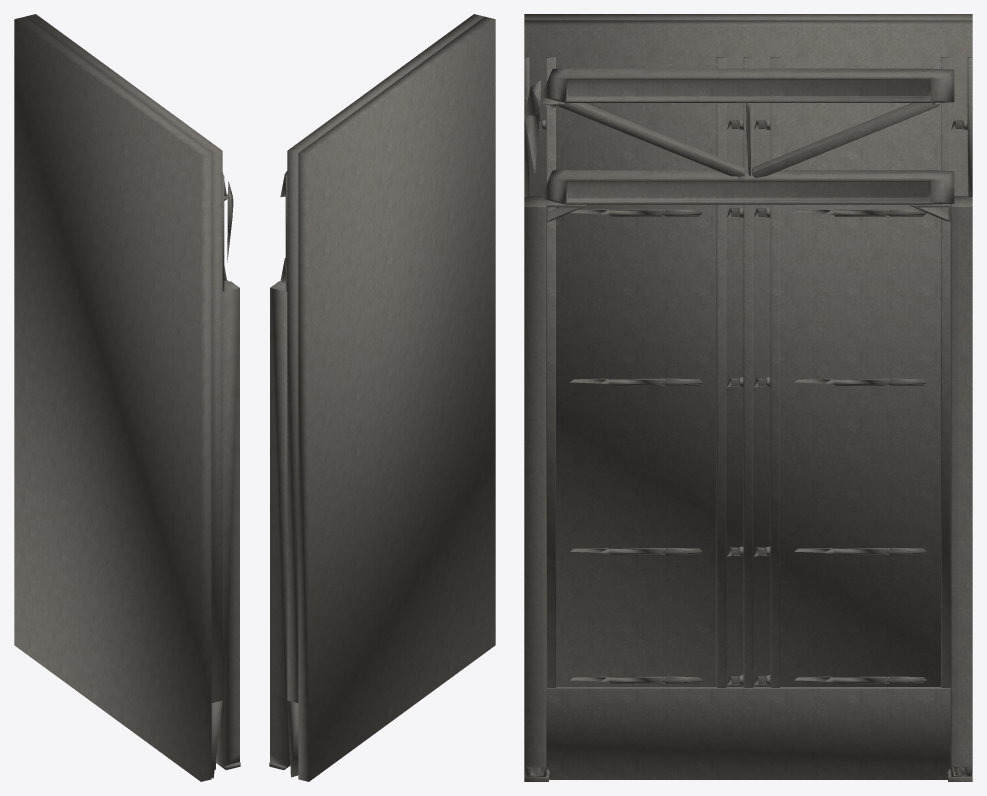
File: wall.glb
3 views of the same model, side by side, from view 1: azimuth 30°, elevation 25°; view 2: azimuth 150°, elevation 25°; view 3: azimuth 270°, elevation 25° (orthographic). The views are drawn at different scales.
Visible parts, largest first — view 1: geometry_0; view 2: geometry_0; view 3: geometry_0.
Part boxes in pixels (x1=…): geometry_0: x1=14, y1=14, x2=240, y2=781; geometry_0: x1=269, y1=14, x2=495, y2=781; geometry_0: x1=524, y1=14, x2=972, y2=781.
Size of the model in its own units: 0.735 by 11.1 by 6.
Materials: 1 (1 with a texture image).
